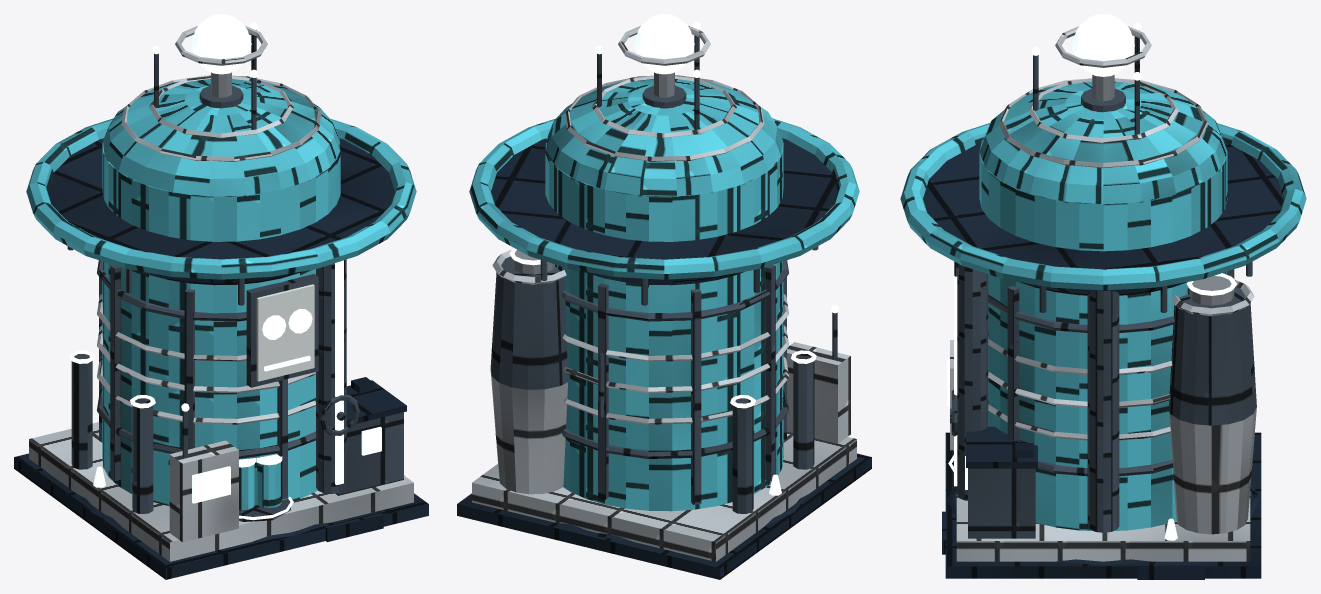
File: HeliumHarvester.fbx
3 renders of one model, left to right at view 1: azimuth 30°, elevation 25°; view 2: azimuth 150°, elevation 25°; view 3: azimuth 270°, elevation 25°, orthographic. The views are drawn at different scales.
Visible parts, largest first — view 1: He3_Tank, He3_Dome, He3_Dish, He3_Rim, He3_Tier, He3_Plinth, He3_Control, He3_PipeFront, He3_GaugeFace, He3_Pump, He3_Orb, He3_GaugeFrame (+23 smaller); view 2: He3_Tank, He3_Dome, He3_Tier, He3_Dish, He3_Rim, He3_CoolTower_High, He3_Plinth, He3_CoolTower_Low, He3_Control, He3_Orb, He3_Vent_01, He3_Vent_02 (+13 smaller); view 3: He3_Tank, He3_Dome, He3_Dish, He3_Rim, He3_CoolTower_High, He3_Tier, He3_CoolTower_Low, He3_PipeSide, He3_Plinth, He3_PipeFront, He3_Pump, He3_Orb (+17 smaller).
Part boxes in pixels (box(x1,y1,x2,y2)): He3_Tank: box(102, 138, 340, 506); He3_Dome: box(103, 79, 339, 197); He3_Dish: box(48, 138, 394, 285); He3_Rim: box(26, 118, 416, 279); He3_Tier: box(29, 422, 413, 561); He3_Plinth: box(14, 453, 428, 579); He3_Control: box(169, 440, 238, 542); He3_PipeFront: box(316, 259, 346, 493); He3_GaugeFace: box(256, 284, 314, 381); He3_Pump: box(335, 412, 403, 495); He3_Orb: box(191, 14, 251, 74); He3_GaugeFrame: box(246, 274, 318, 387); He3_Tank: box(545, 138, 783, 511); He3_Dome: box(546, 79, 782, 197); He3_Tier: box(472, 431, 856, 561); He3_Dish: box(491, 138, 837, 285); He3_Rim: box(469, 118, 859, 279); He3_CoolTower_High: box(490, 256, 567, 389); He3_Plinth: box(457, 453, 871, 579); He3_CoolTower_Low: box(490, 371, 567, 494); He3_Control: box(787, 342, 850, 443); He3_Orb: box(634, 14, 694, 74); He3_Vent_01: box(732, 398, 753, 513); He3_Vent_02: box(793, 354, 814, 469); He3_Tank: box(979, 138, 1227, 530); He3_Dome: box(979, 81, 1227, 204); He3_Dish: box(923, 143, 1283, 295); He3_Rim: box(900, 123, 1306, 290); He3_CoolTower_High: box(1168, 286, 1256, 425); He3_Tier: box(956, 491, 1250, 561); He3_CoolTower_Low: box(1168, 407, 1256, 534); He3_PipeSide: box(1087, 291, 1119, 532); He3_Plinth: box(945, 432, 1261, 578); He3_PipeFront: box(956, 264, 988, 500); He3_Pump: box(968, 468, 1035, 538); He3_Orb: box(1072, 14, 1134, 76).
Size of the model in its own units: 1.8 by 2.42 by 1.8.
